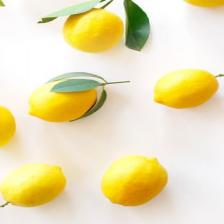yellow: (102, 156, 168, 206), (28, 80, 97, 122), (1, 166, 66, 207), (63, 8, 123, 52), (155, 69, 218, 108), (1, 106, 15, 146), (184, 0, 224, 7)
